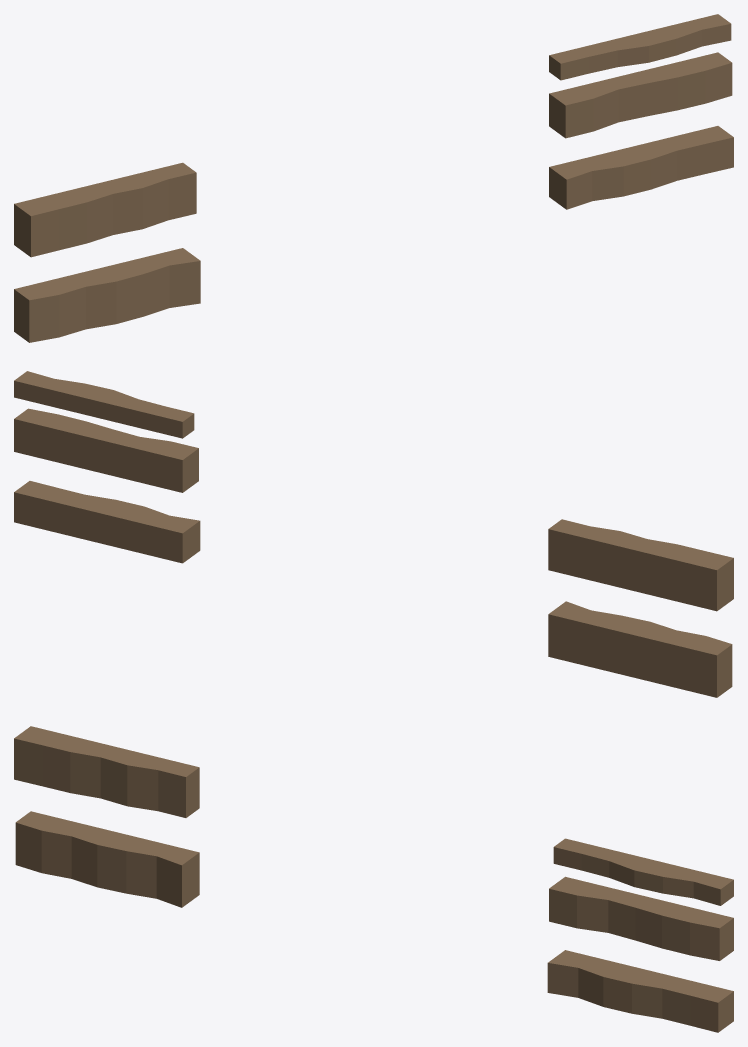
The model's file is HokageCliffOuter_HokageRockDark.fbx.
3 views of the same model, one above another, from view 1: azimuth 30°, elevation 25°; view 2: azimuth 150°, elevation 25°; view 3: azimuth 330°, elevation 25° (orthographic).
Parts seen in each view (by area): view 1: CliffOuter-1_1.001; view 2: CliffOuter-1_1.001; view 3: CliffOuter-1_1.001.
Boxes of the visible parts, x1,y1,x2,y2 form: CliffOuter-1_1.001: (14,14,733,342); CliffOuter-1_1.001: (14,371,733,697); CliffOuter-1_1.001: (14,726,733,1032).
Size of the model in its own units: 30000 by 5940 by 1332.
